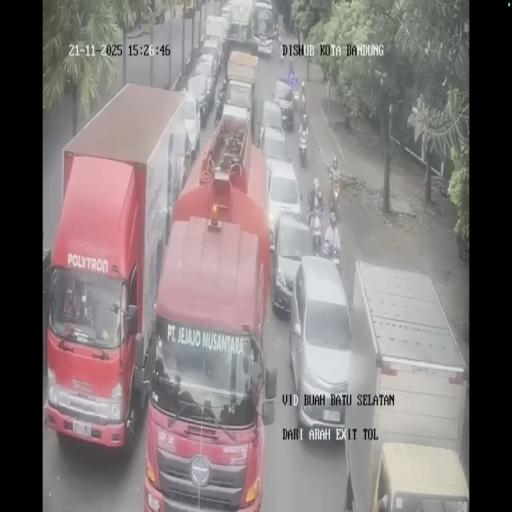3: (46, 82, 196, 452), (252, 0, 275, 55)
car: (290, 258, 352, 436), (264, 156, 302, 247), (272, 78, 295, 128), (200, 36, 222, 77), (220, 2, 232, 26)
truck: (309, 210, 323, 256), (325, 239, 342, 272), (292, 83, 302, 113), (299, 135, 308, 167)
